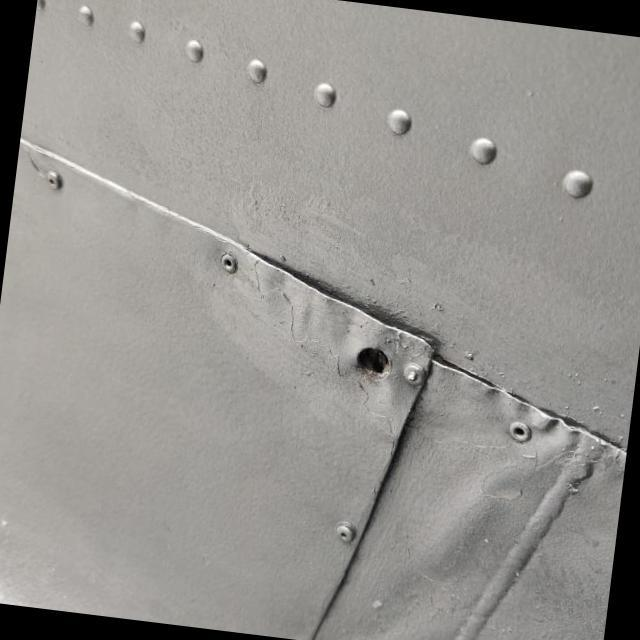Fastener Damage: (304, 277, 462, 428)
